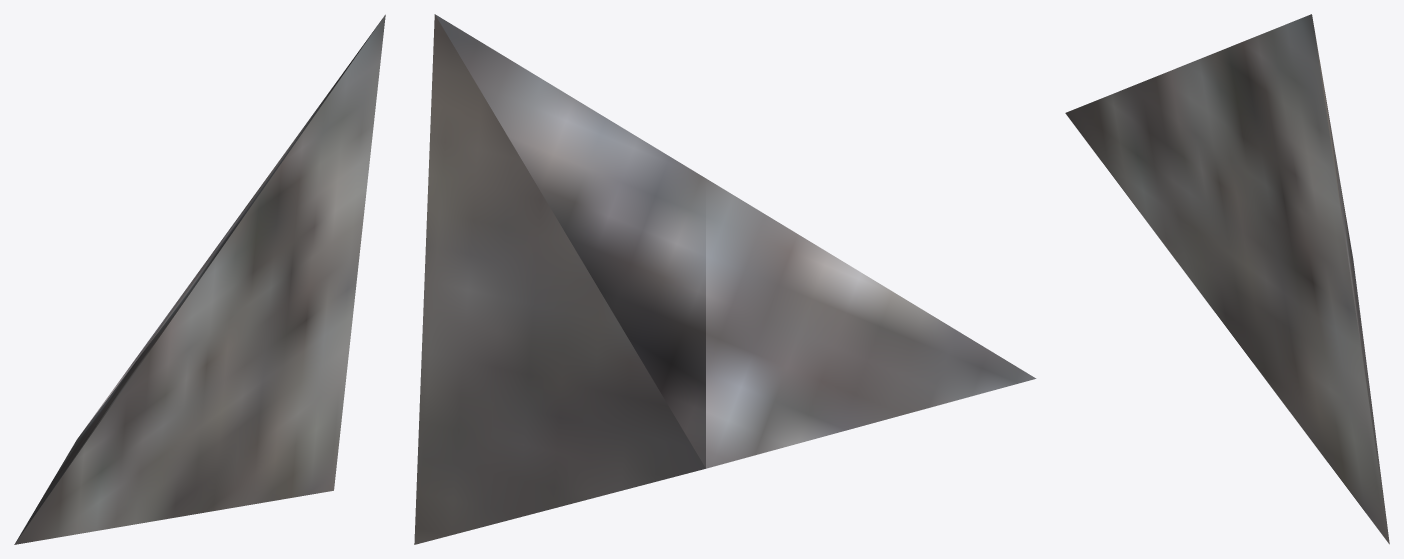
The model's file is Asteroid_Large_001_02_005_03_004.fbx.
The picture shows the model from 3 angles, left to right: view 1: azimuth 30°, elevation 25°; view 2: azimuth 150°, elevation 25°; view 3: azimuth 270°, elevation 25°; orthographic projection. The views are drawn at different scales.
Parts seen in each view (by area): view 1: Asteroid_Large_001_02_005_03_004; view 2: Asteroid_Large_001_02_005_03_004; view 3: Asteroid_Large_001_02_005_03_004.
Part boxes in pixels (x1,y1,x2,y2): Asteroid_Large_001_02_005_03_004: [14, 14, 385, 544]; Asteroid_Large_001_02_005_03_004: [414, 14, 1036, 544]; Asteroid_Large_001_02_005_03_004: [1065, 14, 1389, 544].
Size of the model in its own units: 0.7421 by 0.7287 by 0.3976.
